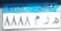8: (24, 13, 30, 26), (3, 15, 10, 26), (18, 15, 25, 25), (11, 14, 17, 25)
ر: (40, 13, 52, 25)
م: (34, 15, 40, 25)
ه: (51, 14, 60, 25)
